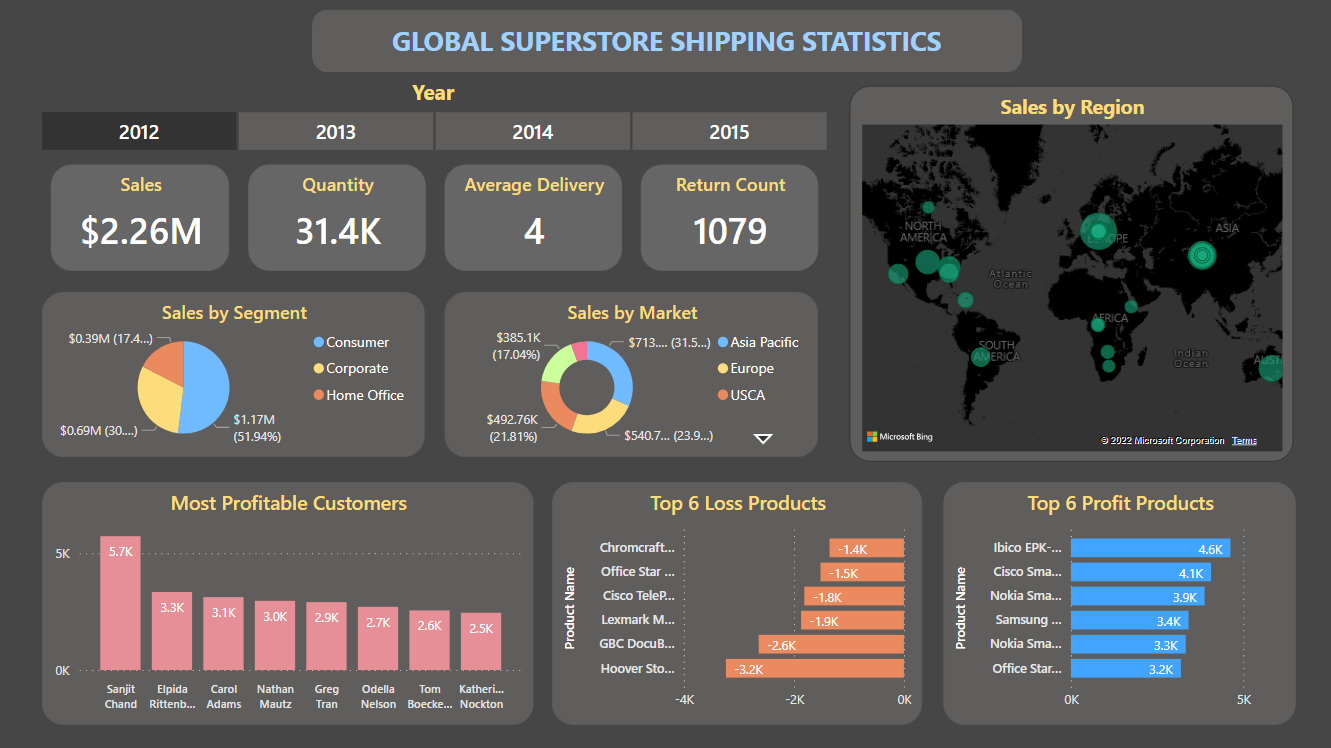

What the dashboard file says about the page in this screenshot:
{"tool":"powerbi","page":{"name":"Page 1","canvas":[1280,720],"ordinal":0},"visuals":[{"type":"card","title":"Sales","fields":{"Values":["Orders.Sales"]},"box":[51.3,160.3,170.7,101.5],"z":0},{"type":"card","title":"Quantity","fields":{"Values":["Orders.Quantity"]},"box":[240,160,169.6,101.5],"z":1000},{"type":"card","title":"Average Delivery","fields":{"Values":["Orders.Delivery Days"]},"box":[427.5,160,169.6,101.5],"z":2000},{"type":"slicer","title":"Year","fields":{"Values":["Orders.Year"]},"box":[16.7,76.7,800,76.4],"z":3000},{"type":"card","title":"Return Count","fields":{"Values":["Returns.Return Count"]},"box":[614.9,160.3,169.6,101.5],"z":4000},{"type":"map","title":"Sales by Region","fields":{"Size":["Orders.Sales"],"Category":["Orders.Region"]},"box":[814.3,85.1,423.9,359.4],"z":5000},{"type":"barChart","title":"Top 6 Profit Products","fields":{"Category":["Orders.Product Name"],"Y":["Orders.Profit"]},"box":[903.9,463.6,336.7,231.6],"z":6000},{"type":"barChart","title":"Top 6 Loss Products","fields":{"Category":["Orders.Product Name"],"Y":["Orders.Profit"]},"box":[530.1,463.6,353.4,231.6],"z":7000},{"type":"pieChart","fields":{"Category":["Orders.Segment"],"Y":["Orders.Sales"]},"box":[43,282.1,365.4,157.6],"z":8000},{"type":"shape","title":"GLO","box":[300.9,11.9,678.2,59.7],"z":9000},{"type":"donutChart","fields":{"Y":["Orders.Sales"],"Category":["Orders.Market"]},"box":[427.5,282.1,357,157.6],"z":10000},{"type":"columnChart","title":"Most Profitable Customers","fields":{"Y":["Orders.Profit"],"Category":["Orders.Customer Name"]},"box":[43,463.6,469.3,231.6],"z":11000}]}

Visuals, with their boxes in screenshot pixels (x1, y1, x2, y2), scaled from the page's 1280x720 canvas onto the 1331x748 screenshot:
"Sales" card: (53,167,231,272)
"Quantity" card: (250,166,426,272)
"Average Delivery" card: (445,166,621,272)
"Year" slicer: (17,80,849,159)
"Return Count" card: (639,167,816,272)
"Sales by Region" map: (847,88,1288,462)
"Top 6 Profit Products" barChart: (940,482,1290,722)
"Top 6 Loss Products" barChart: (551,482,919,722)
pieChart - Orders.Segment x Orders.Sales: (45,293,425,457)
"GLO" shape: (313,12,1018,74)
donutChart - Orders.Sales x Orders.Market: (445,293,816,457)
"Most Profitable Customers" columnChart: (45,482,533,722)
